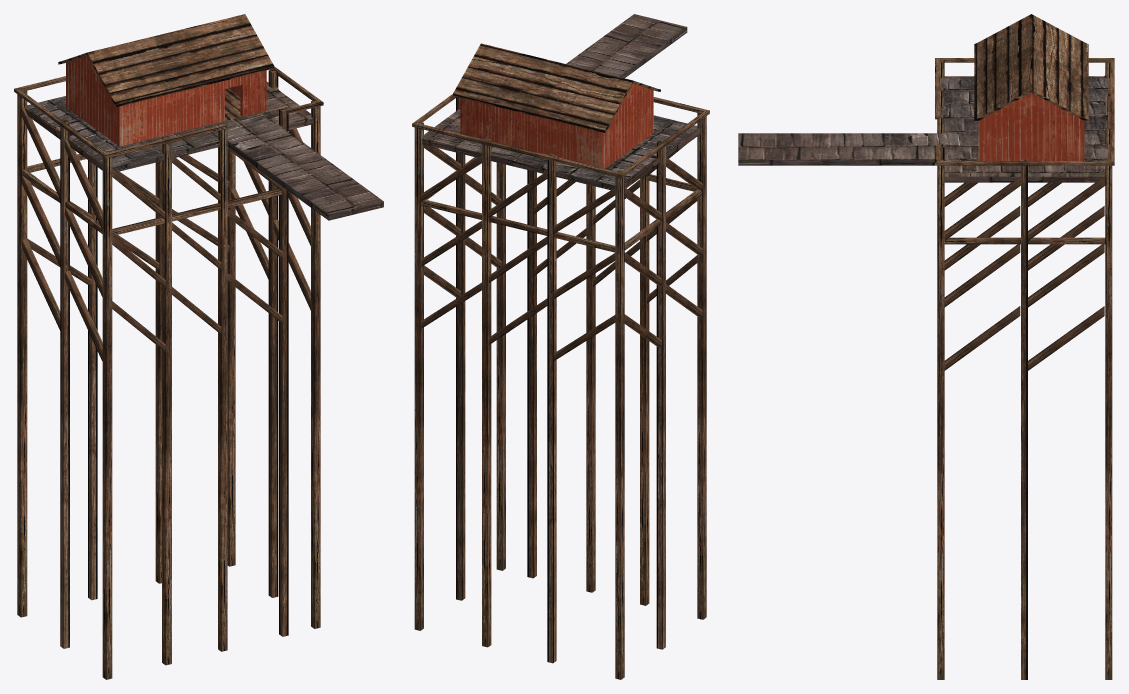
The model's file is lake-house.fbx.
3 views of the same model, side by side, from view 1: azimuth 30°, elevation 25°; view 2: azimuth 150°, elevation 25°; view 3: azimuth 270°, elevation 25° (orthographic). The views are drawn at different scales.
Visible parts, largest first — view 1: Plane.009; view 2: Plane.009; view 3: Plane.009.
Part boxes in pixels (x1,y1,x2,y2): Plane.009: (14, 14, 383, 679); Plane.009: (412, 14, 709, 679); Plane.009: (738, 14, 1114, 679).
Size of the model in its own units: 2080 by 5336 by 3158.
Materials: 1 (1 with a texture image).
